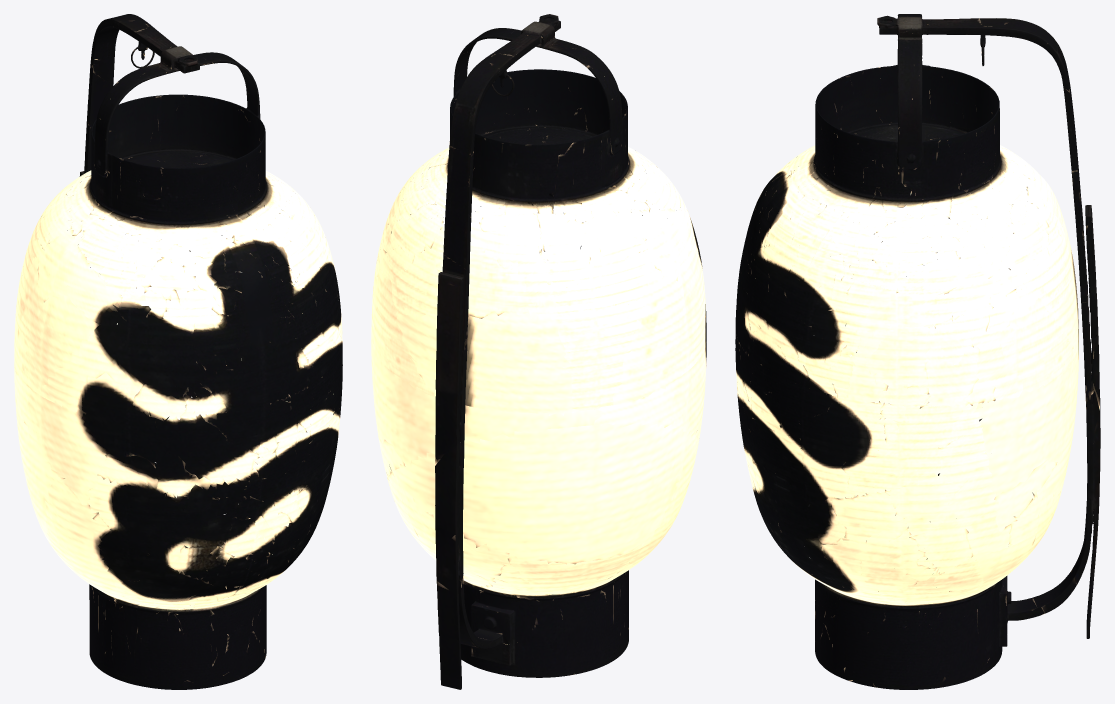
The model's file is lantern.glb.
3 views of the same model, side by side, from view 1: azimuth 30°, elevation 25°; view 2: azimuth 150°, elevation 25°; view 3: azimuth 270°, elevation 25° (orthographic). The views are drawn at different scales.
Parts seen in each view (by area): view 1: Mesh_0; view 2: Mesh_0; view 3: Mesh_0.
Part boxes in pixels (x1,y1,x2,y2): Mesh_0: (14,14,342,689); Mesh_0: (371,14,706,689); Mesh_0: (735,14,1100,689).
Bounding box in the file's own units: 0.9231 × 1.86 × 0.9766.
Materials: 1 (1 with a texture image).
